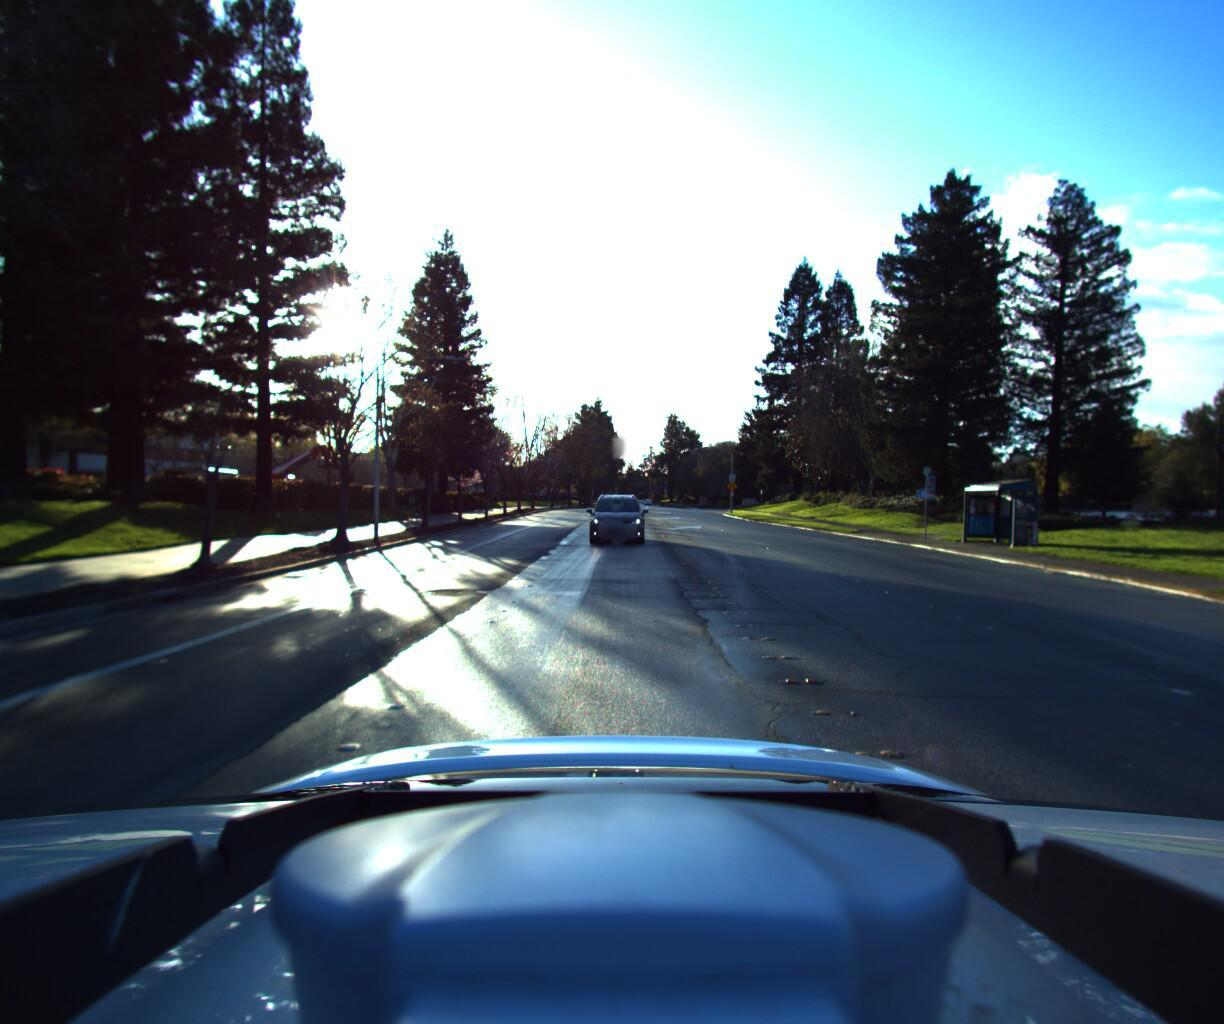bicycle: (401, 491, 424, 523)
car: (586, 491, 642, 544)
other_vehicle: (245, 434, 358, 515)
